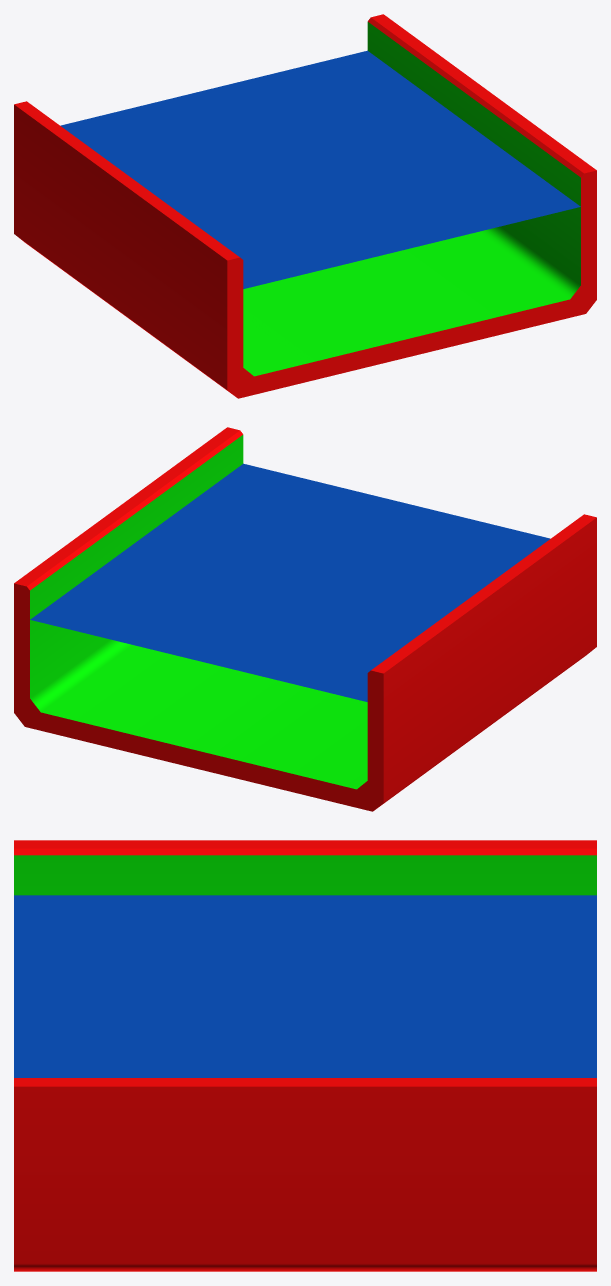
Rendered from track_lazy_boat_MOCK.fbx.
The picture shows the model from 3 angles, top to bottom: view 1: azimuth 30°, elevation 25°; view 2: azimuth 150°, elevation 25°; view 3: azimuth 270°, elevation 25°; orthographic projection. The views are drawn at different scales.
Visible parts, largest first — view 1: track_lazy_boat_MOCK; view 2: track_lazy_boat_MOCK; view 3: track_lazy_boat_MOCK.
Boxes of the visible parts, bbox=[...] form: track_lazy_boat_MOCK: bbox=[14, 14, 596, 398]; track_lazy_boat_MOCK: bbox=[14, 427, 596, 811]; track_lazy_boat_MOCK: bbox=[14, 840, 596, 1271].
Bounding box in the file's own units: 1 × 0.3641 × 1.
